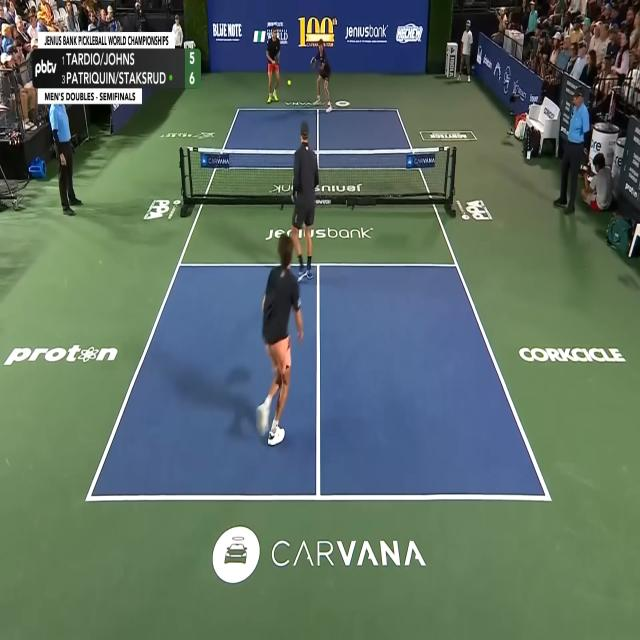ball: (288, 79, 292, 87)
